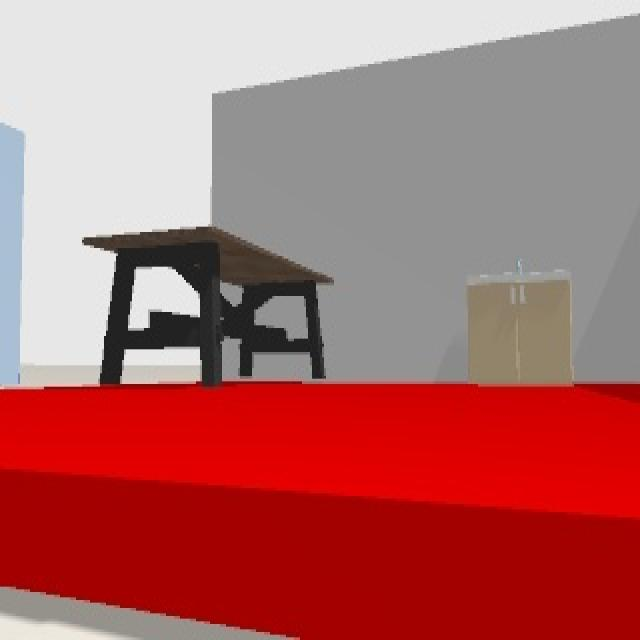dining: (81, 220, 333, 388)
